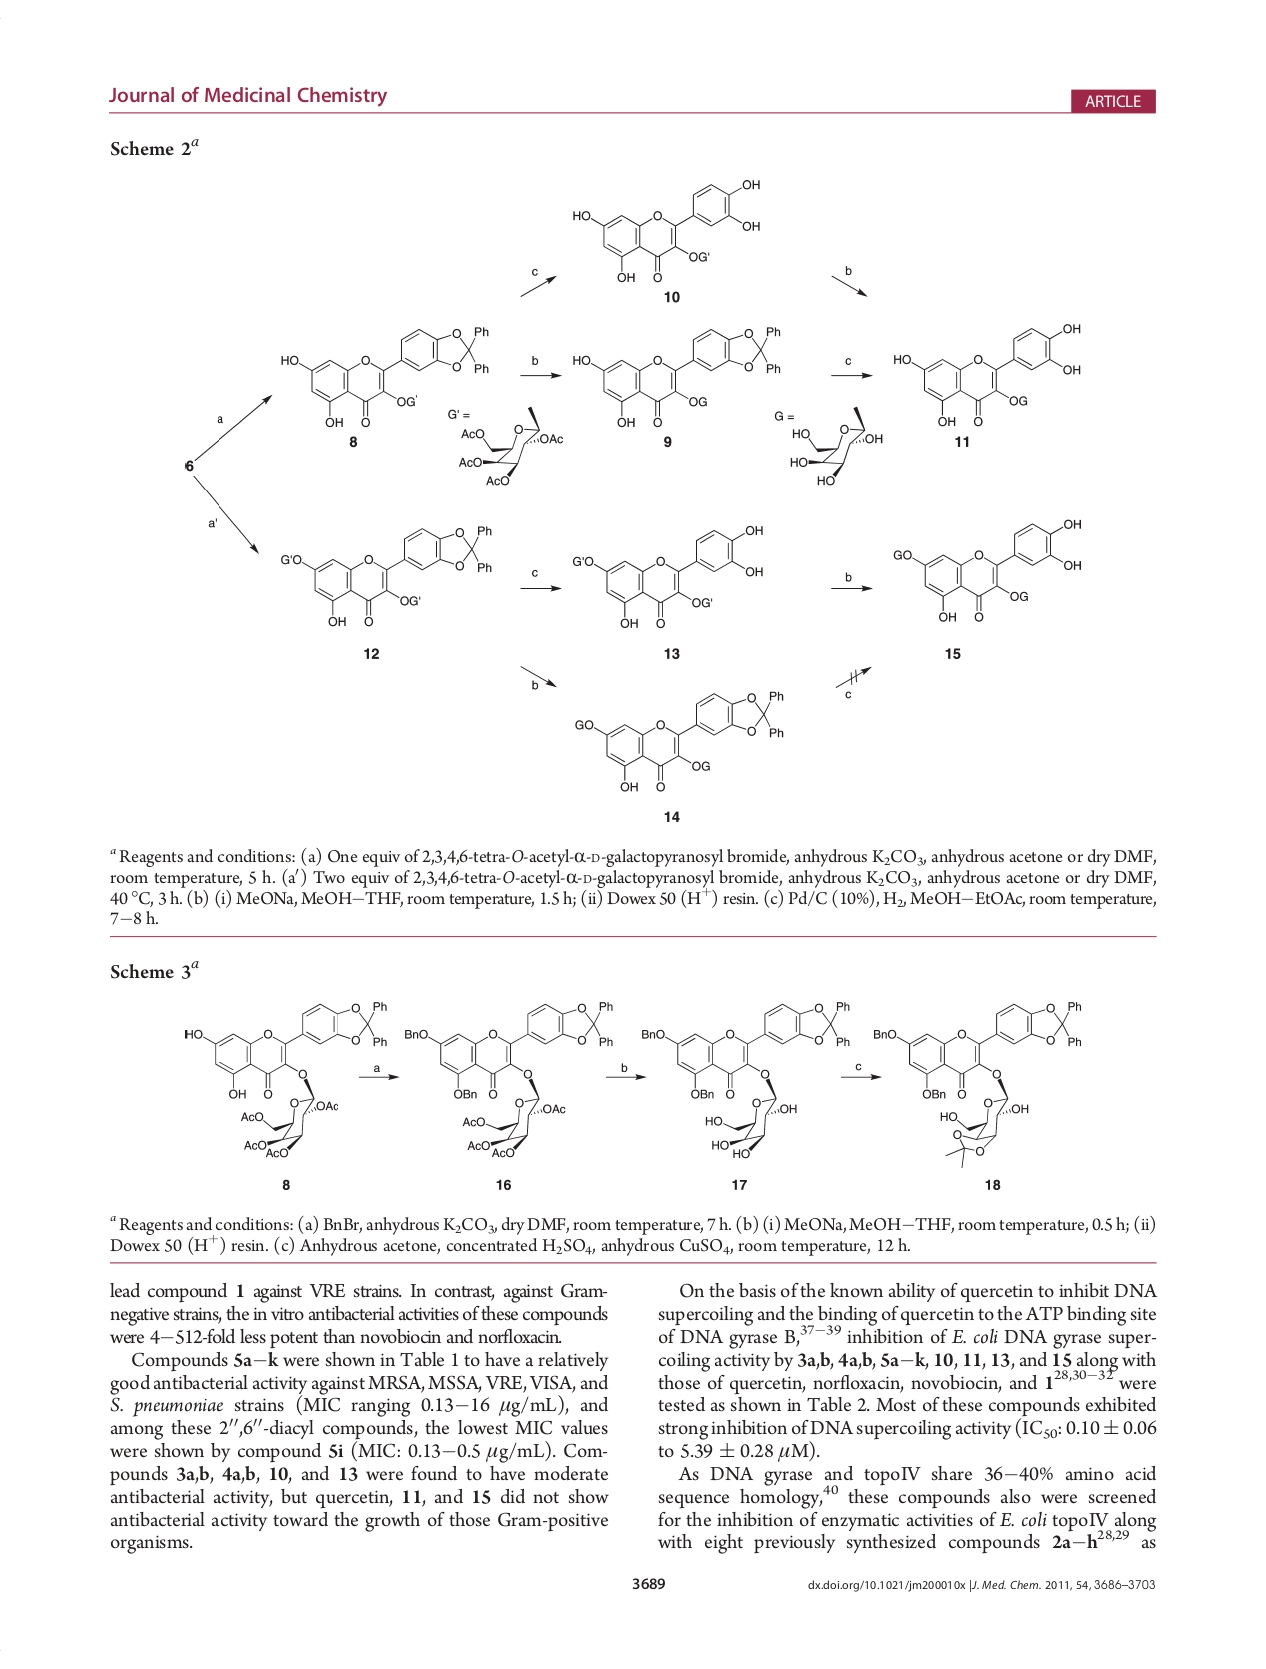exist_molecular: (871, 993, 1089, 1170), (402, 997, 618, 1162), (638, 997, 852, 1162), (181, 997, 390, 1162), (273, 521, 496, 630), (569, 319, 785, 430), (570, 688, 787, 797), (890, 515, 1086, 629), (278, 323, 489, 430), (569, 174, 765, 289), (891, 318, 1088, 430), (569, 523, 767, 630), (786, 404, 887, 492), (459, 406, 563, 489)
